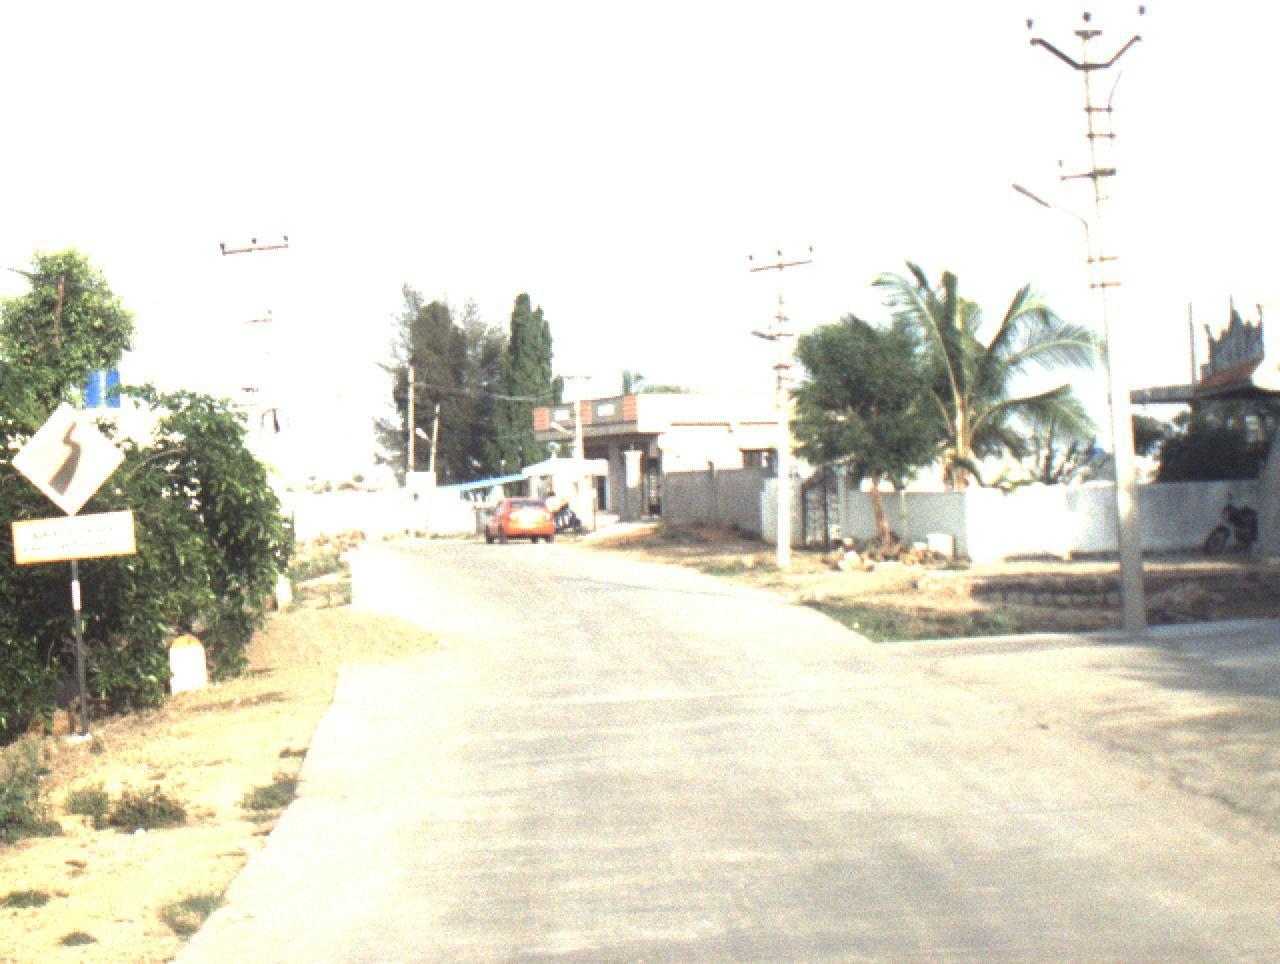off: (50, 16, 1280, 964)
